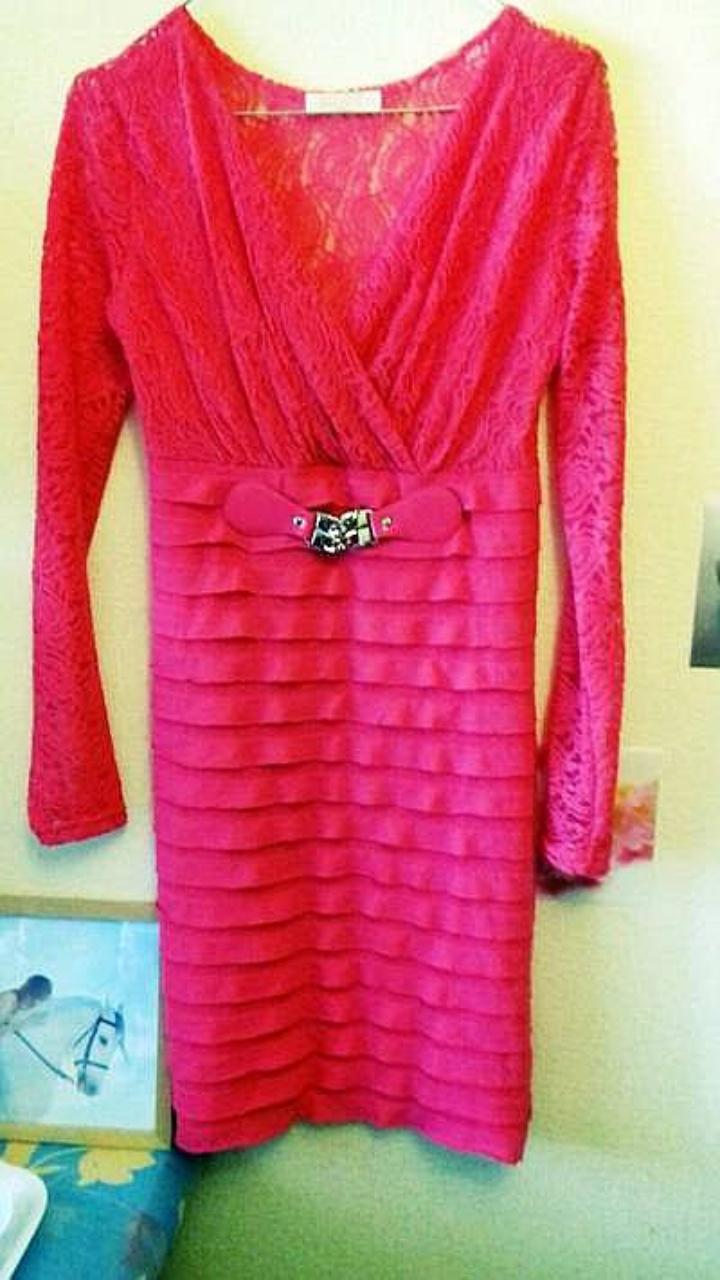Dresses: (29, 5, 624, 1162)
